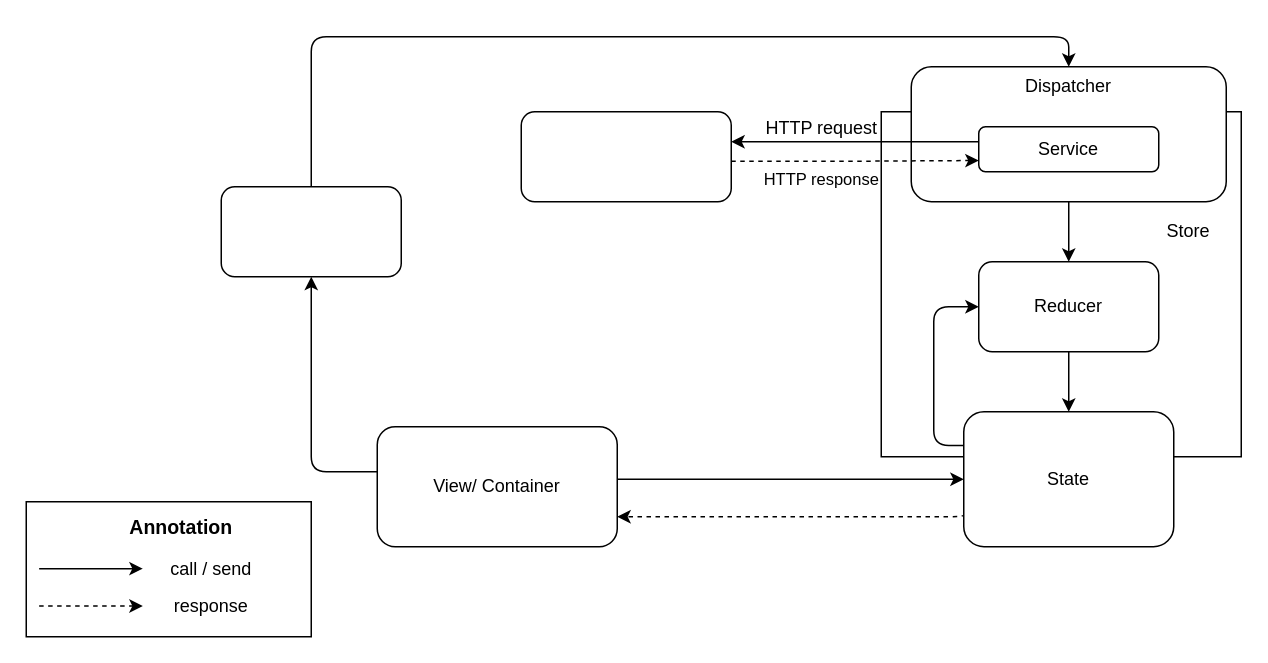
Some shapes in this 1268 by 663 pixel diagram are drawn without their labels. The centre of each missing label's shape, as x and y in pixels:
"Actions" goes at point (310, 231).
"Rest API" goes at point (625, 156).
